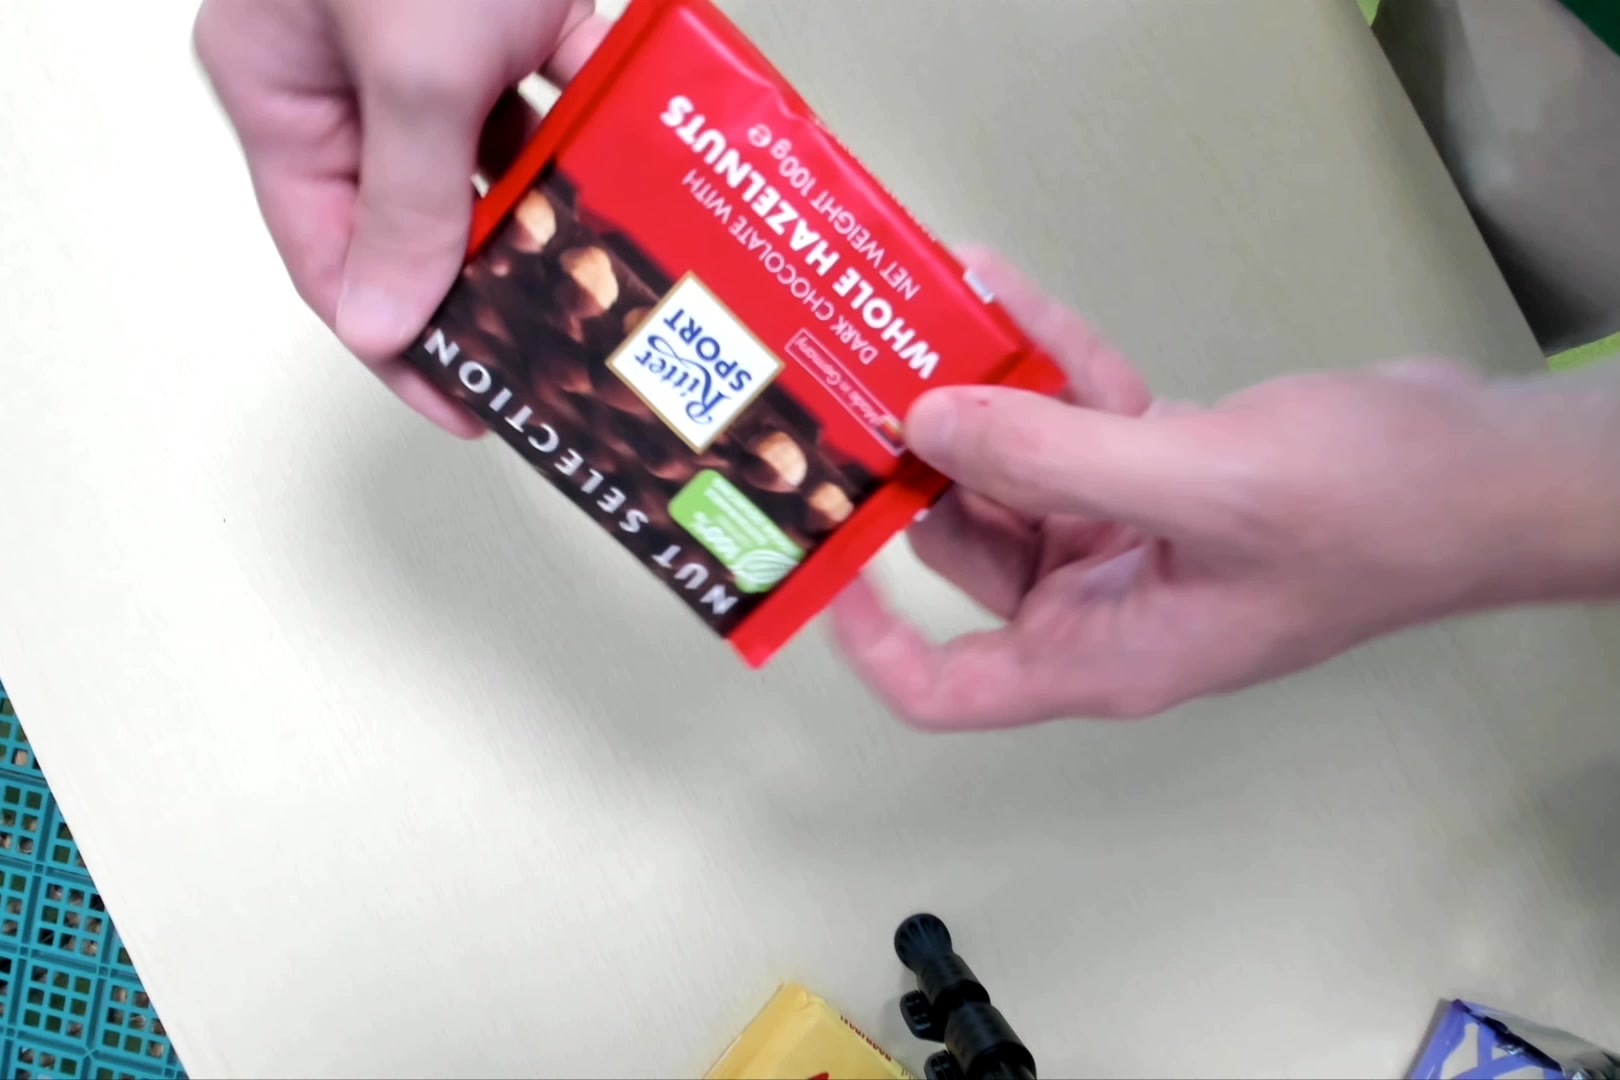SweetsChocolatesOthers_100-199g_NonHalal_NonHealthy: (397, 16, 1047, 665)
